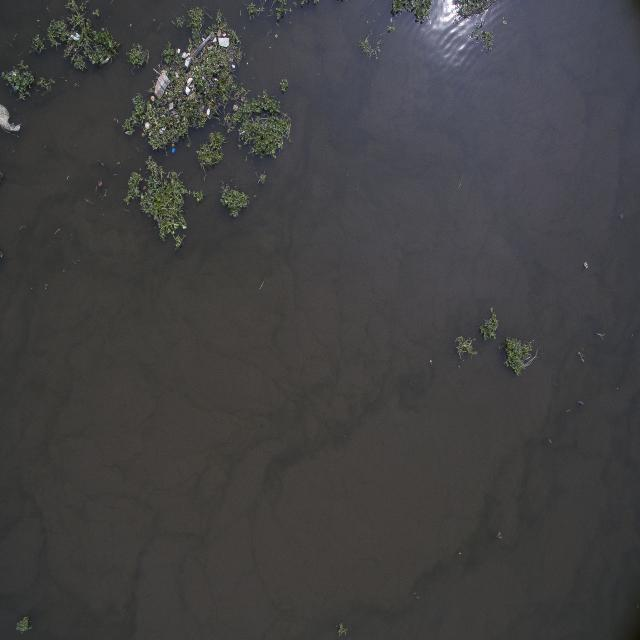debris: (0, 103, 21, 140), (154, 75, 168, 95), (70, 26, 80, 45), (186, 78, 194, 96), (182, 52, 192, 66), (218, 37, 230, 48), (426, 357, 436, 369), (94, 178, 104, 188), (159, 126, 168, 136), (144, 121, 152, 131), (168, 102, 176, 111), (546, 437, 554, 445), (582, 260, 588, 270), (576, 399, 584, 406), (200, 38, 208, 43), (177, 48, 181, 54), (214, 74, 217, 82), (230, 64, 236, 68), (245, 59, 249, 65)
plastic: (261, 110, 270, 121), (238, 129, 246, 137), (173, 69, 179, 79), (206, 107, 212, 116), (619, 212, 624, 221)
